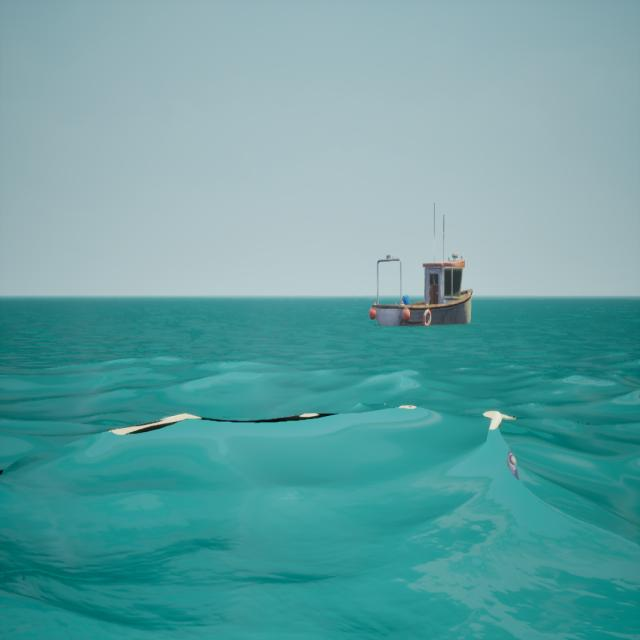ship: (356, 198, 480, 337)
